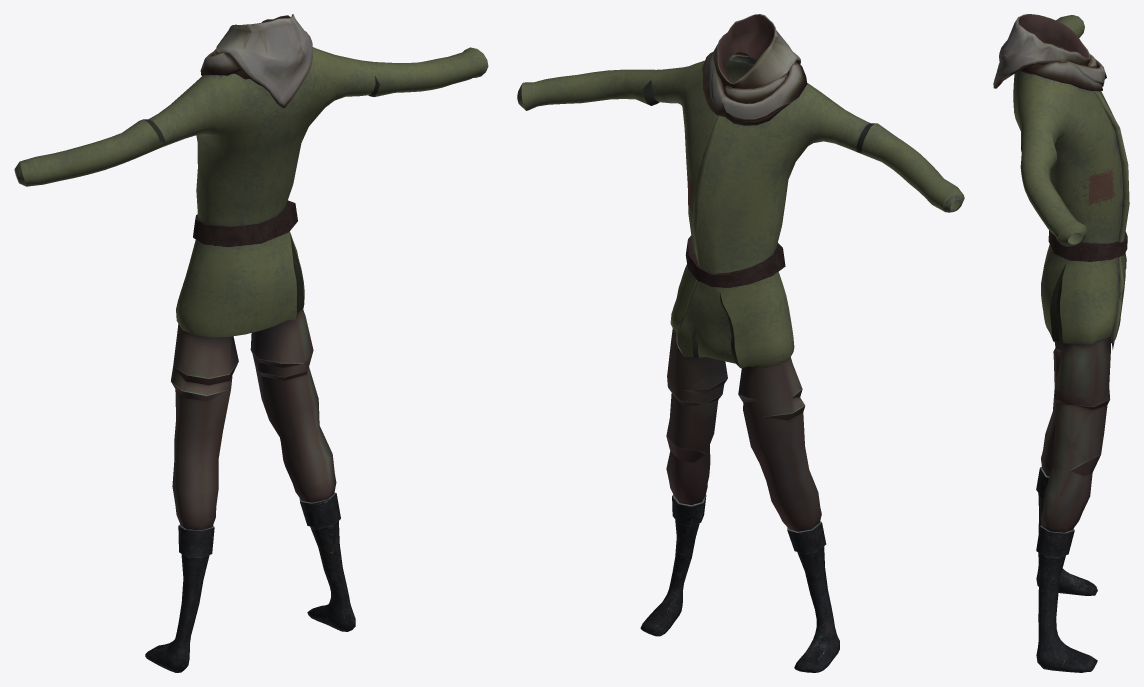
The model's file is mc_itter2.fbx.
3 views of the same model, side by side, from view 1: azimuth 30°, elevation 25°; view 2: azimuth 150°, elevation 25°; view 3: azimuth 270°, elevation 25° (orthographic). The views are drawn at different scales.
Parts seen in each view (by area): view 1: MC; view 2: MC; view 3: MC.
Part boxes in pixels (box(x1,y1,x2,y2)): MC: box(14, 14, 488, 672); MC: box(517, 14, 964, 672); MC: box(993, 14, 1129, 672).
Size of the model in its own units: 32.39 by 122 by 161.
